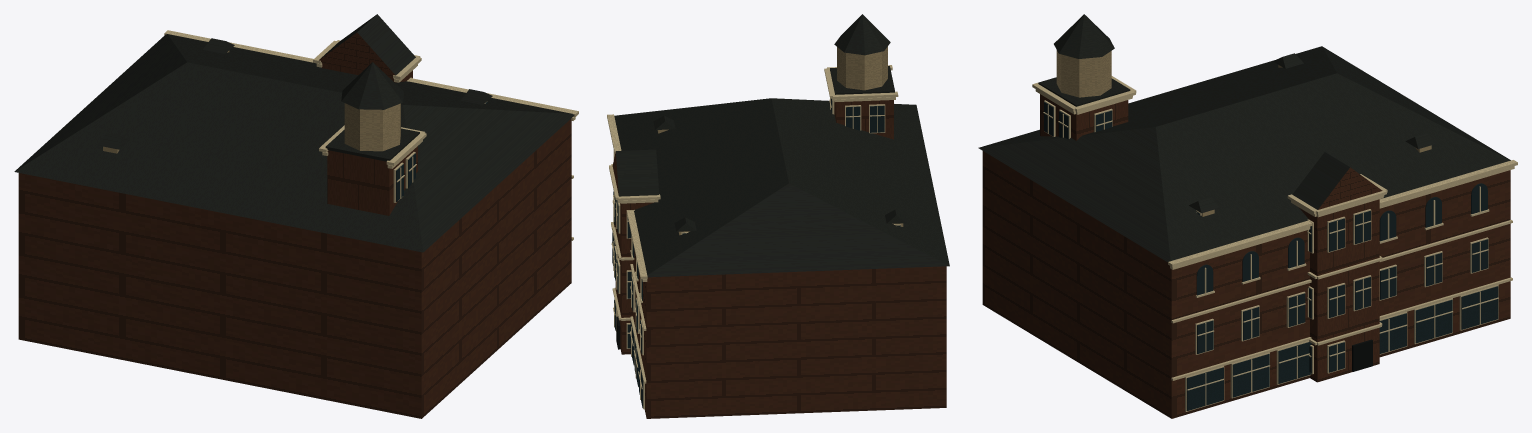
3 views of the same model, side by side, from view 1: azimuth 30°, elevation 25°; view 2: azimuth 150°, elevation 25°; view 3: azimuth 270°, elevation 25° (orthographic). The views are drawn at different scales.
Parts seen in each view (by area): view 1: ooglijdersgesticht-2, ooglijdersgesticht-1, ooglijdersgesticht-3, ooglijdersgesticht-0; view 2: ooglijdersgesticht-1, ooglijdersgesticht-2, ooglijdersgesticht-3, ooglijdersgesticht-4, ooglijdersgesticht-0; view 3: ooglijdersgesticht-2, ooglijdersgesticht-1, ooglijdersgesticht-4, ooglijdersgesticht-3, ooglijdersgesticht-0, ooglijdersgesticht-5.
Part boxes in pixels (bbox=[...]): ooglijdersgesticht-2: bbox=[18, 32, 571, 418]; ooglijdersgesticht-1: bbox=[14, 14, 574, 252]; ooglijdersgesticht-3: bbox=[164, 30, 578, 240]; ooglijdersgesticht-0: bbox=[103, 50, 400, 153]; ooglijdersgesticht-1: bbox=[614, 14, 949, 277]; ooglijdersgesticht-2: bbox=[612, 100, 946, 418]; ooglijdersgesticht-3: bbox=[607, 65, 901, 409]; ooglijdersgesticht-4: bbox=[612, 98, 900, 407]; ooglijdersgesticht-0: bbox=[657, 46, 903, 235]; ooglijdersgesticht-2: bbox=[982, 94, 1510, 418]; ooglijdersgesticht-1: bbox=[978, 14, 1510, 262]; ooglijdersgesticht-4: bbox=[1044, 102, 1498, 410]; ooglijdersgesticht-3: bbox=[1032, 76, 1517, 411]; ooglijdersgesticht-0: bbox=[1056, 50, 1431, 216]; ooglijdersgesticht-5: bbox=[1352, 339, 1372, 371].
Size of the model in its own units: 40.97 by 25.5 by 42.52.
6 materials, 6 textured.
